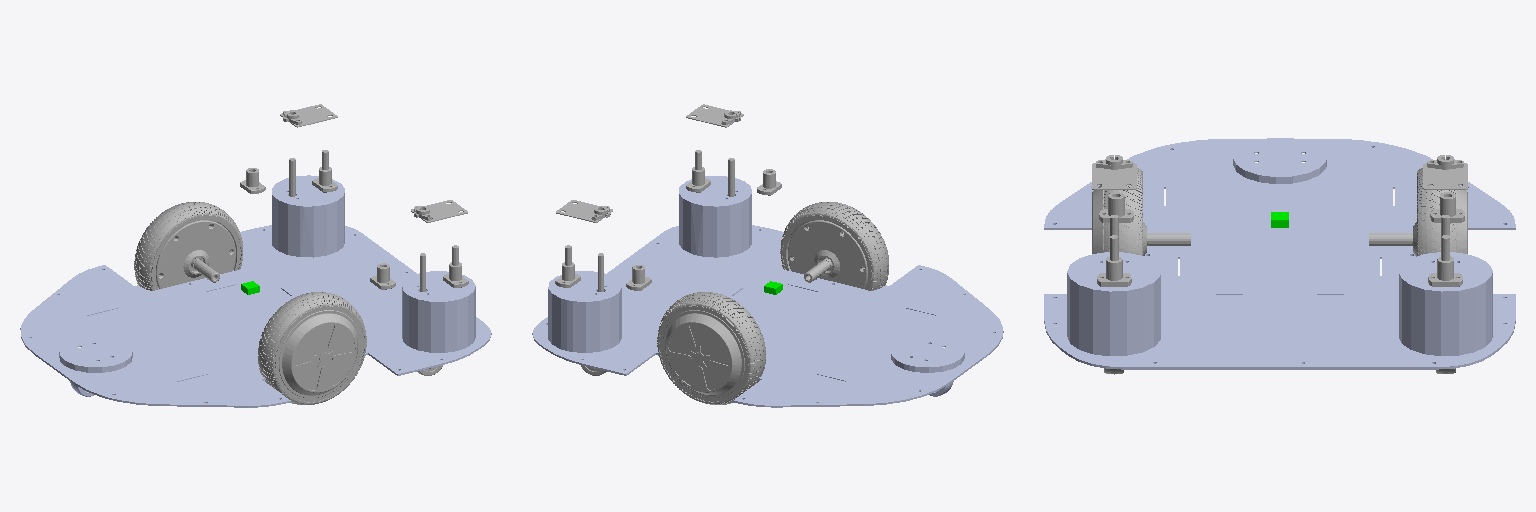
URDF robot description (robot_urdf):
<?xml version="1.0" encoding="utf-8"?>
<!-- This URDF was automatically created by SolidWorks to URDF Exporter! Originally created by Stephen Brawner (brawner@gmail.com) 
     Commit Version: 1.6.0-4-g7f85cfe  Build Version: 1.6.7995.38578
     For more information, please see http://wiki.ros.org/sw_urdf_exporter -->
<robot
  name="robot_urdf">

  <!-- ========================= -->
  <!-- Base Footprint            -->
  <!-- ========================= -->
  <link name="base_footprint"/>

  <!-- Dịch chuyển gốc SolidWorks về đúng tâm trục bánh xe tiếp xúc mặt đất và xoay 180 độ để 2 bánh phụ là đầu xe (+X) -->
  <joint name="base_joint" type="fixed">
    <parent link="base_footprint"/>
    <child link="base_link"/>
    <origin xyz="0.18805 0.213 0.03053" rpy="0 0 3.14159265"/>
  </joint>

  <!-- ========================= -->
  <!-- Base Link                 -->
  <!-- ========================= -->
  <link
    name="base_link">
    <inertial>
      <origin
        xyz="0.221410511244576 0.213001695317811 0.0353870595177748"
        rpy="0 0 0" />
      <mass
        value="1.25495204933382" />
      <inertia
        ixx="0.0204204507187595"
        ixy="1.1493563950929E-06"
        ixz="0.0013146649430653"
        iyy="0.0297599172739004"
        iyz="1.673289518977E-08"
        izz="0.0493374014049096" />
    </inertial>
    <visual>
      <origin
        xyz="0 0 0"
        rpy="0 0 0" />
      <geometry>
        <mesh
          filename="package://robot_urdf/meshes/base_link.STL" />
      </geometry>
      <material
        name="">
        <color
          rgba="0.792156862745098 0.819607843137255 0.933333333333333 1" />
      </material>
    </visual>
    <collision>
      <origin
        xyz="0 0 0"
        rpy="0 0 0" />
      <geometry>
        <mesh
          filename="package://robot_urdf/meshes/base_link.STL" />
      </geometry>
    </collision>
  </link>

  <!-- ========================= -->
  <!-- IMU Link (Center of Robot)-->
  <!-- ========================= -->
  <link name="imu_link">
    <visual>
      <geometry>
        <box size="0.02 0.02 0.01"/>
      </geometry>
      <material name="imu_green">
        <color rgba="0 1 0 1"/>
      </material>
    </visual>
    <collision>
      <geometry>
        <box size="0.02 0.02 0.01"/>
      </geometry>
    </collision>
    <inertial>
      <origin xyz="0 0 0" rpy="0 0 0"/>
      <mass value="0.02"/>
      <inertia ixx="1e-5" ixy="0.0" ixz="0.0"
               iyy="1e-5" iyz="0.0"
               izz="1e-5"/>
    </inertial>
  </link>

  <joint name="imu_joint" type="fixed">
    <parent link="base_link"/>
    <child link="imu_link"/>
    <origin xyz="0.18805 0.213 0.08" rpy="0 0 3.14159265"/>
  </joint>

  <!-- ========================= -->
  <!-- 2D LiDAR (laser_link)     -->
  <!-- ========================= -->
  <link
    name="laser_link">
    <inertial>
      <origin
        xyz="0.011792 -0.00036789 -0.035501"
        rpy="0 0 0" />
      <mass
        value="0.094104" />
      <inertia
        ixx="2.7909E-05"
        ixy="-5.2518E-08"
        ixz="-3.3534E-07"
        iyy="4.4353E-05"
        iyz="2.4873E-08"
        izz="6.9475E-05" />
    </inertial>
    <visual>
      <origin
        xyz="0 0 0"
        rpy="0 0 0" />
      <geometry>
        <mesh
          filename="package://robot_urdf/meshes/laser_Link.STL" />
      </geometry>
      <material
        name="">
        <color
          rgba="0.75294 0.75294 0.75294 1" />
      </material>
    </visual>
    <collision>
      <origin
        xyz="0 0 0"
        rpy="0 0 0" />
      <geometry>
        <mesh
          filename="package://robot_urdf/meshes/laser_Link.STL" />
      </geometry>
    </collision>
  </link>

  <joint
    name="laser_joint"
    type="fixed">
    <origin
      xyz="0.01305 0.213 0.24949"
      rpy="3.14159265 0 3.14159265" />
    <parent
      link="base_link" />
    <child
      link="laser_link" />
    <axis
      xyz="0 0 0" />
  </joint>

  <!-- ========================= -->
  <!-- Left Wheel (Active, 43cm) -->
  <!-- ========================= -->
  <link
    name="wheel_left_link">
    <inertial>
      <origin
        xyz="-5.0984E-06 -0.033015 7.7331E-06"
        rpy="0 0 0" />
      <mass
        value="0.79711" />
      <inertia
        ixx="0.0016716"
        ixy="3.0102E-08"
        ixz="-3.8937E-08"
        iyy="0.0030919"
        iyz="1.8966E-07"
        izz="0.0016716" />
    </inertial>
    <visual>
      <origin
        xyz="0 0 0"
        rpy="0 0 0" />
      <geometry>
        <mesh
          filename="package://robot_urdf/meshes/wheel_left_link.STL" />
      </geometry>
      <material
        name="">
        <color
          rgba="0.75294 0.75294 0.75294 1" />
      </material>
    </visual>
    <collision>
      <origin
        xyz="0 -0.0567 0"
        rpy="1.5707963 0 0" />
      <geometry>
        <cylinder radius="0.086" length="0.05" />
      </geometry>
    </collision>
  </link>

  <joint
    name="wheel_left_joint"
    type="continuous">
    <origin
      xyz="0.18805 -0.002 0.055472"
      rpy="0 0 0" />
    <parent
      link="base_link" />
    <child
      link="wheel_right_link" />
    <axis
      xyz="0 -1 0" />
  </joint>

  <!-- ========================= -->
  <!-- Right Wheel (Active, 43cm)-->
  <!-- ========================= -->
  <link
    name="wheel_right_link">
    <inertial>
      <origin
        xyz="5.0984E-06 0.033015 7.7331E-06"
        rpy="0 0 0" />
      <mass
        value="0.79711" />
      <inertia
        ixx="0.0016716"
        ixy="3.0102E-08"
        ixz="3.8937E-08"
        iyy="0.0030919"
        iyz="-1.8966E-07"
        izz="0.0016716" />
    </inertial>
    <visual>
      <origin
        xyz="0 0 0"
        rpy="0 0 0" />
      <geometry>
        <mesh
          filename="package://robot_urdf/meshes/wheel_right_link.STL" />
      </geometry>
      <material
        name="">
        <color
          rgba="0.75294 0.75294 0.75294 1" />
      </material>
    </visual>
    <collision>
      <origin
        xyz="0 0.0567 0"
        rpy="1.5707963 0 0" />
      <geometry>
        <cylinder radius="0.086" length="0.05" />
      </geometry>
    </collision>
  </link>

  <joint
    name="wheel_right_joint"
    type="continuous">
    <origin
      xyz="0.18805 0.428 0.055472"
      rpy="0 0 0" />
    <parent
      link="base_link" />
    <child
      link="wheel_left_link" />
    <axis
      xyz="0 -1 0" />
  </joint>

  <!-- ========================= -->
  <!-- Front Caster Wheel        -->
  <!-- ========================= -->
  <link
    name="caster_front_link">
    <inertial>
      <origin
        xyz="-0.0051384 -0.019049 0.0083478"
        rpy="0 0 0" />
      <mass
        value="0.06026" />
      <inertia
        ixx="2.3601E-05"
        ixy="1.4688E-08"
        ixz="7.1694E-06"
        iyy="3.2253E-05"
        iyz="-2.4004E-08"
        izz="1.8571E-05" />
    </inertial>
    <visual>
      <origin
        xyz="0 0 0"
        rpy="0 0 0" />
      <geometry>
        <mesh
          filename="package://robot_urdf/meshes/caster_front_Link.STL" />
      </geometry>
      <material
        name="">
        <color
          rgba="0.79216 0.81961 0.93333 1" />
      </material>
    </visual>
    <collision>
      <origin
        xyz="-0.0137 -0.019 -0.012"
        rpy="0 0 0" />
      <geometry>
        <sphere radius="0.0125" />
      </geometry>
    </collision>
  </link>

  <joint
    name="caster_front_joint"
    type="fixed">
    <origin
      xyz="0.46183 0.232 -0.0023223"
      rpy="0 0 0" />
    <parent
      link="base_link" />
    <child
      link="caster_front_link" />
  </joint>

  <!-- ========================= -->
  <!-- Rear Left Caster Wheel    -->
  <!-- ========================= -->
  <link
    name="caster_left_link">
    <inertial>
      <origin
        xyz="-0.0080178 -0.019209 0.06248"
        rpy="0 0 0" />
      <mass
        value="0.12754" />
      <inertia
        ixx="6.4519E-05"
        ixy="1.3465E-08"
        ixz="7.1762E-06"
        iyy="7.2379E-05"
        iyz="-2.3834E-08"
        izz="3.9114E-05" />
    </inertial>
    <visual>
      <origin
        xyz="0 0 0"
        rpy="0 0 0" />
      <geometry>
        <mesh
          filename="package://robot_urdf/meshes/caster_left_link.STL" />
      </geometry>
      <material
        name="">
        <color
          rgba="0.75294 0.75294 0.75294 1" />
      </material>
    </visual>
    <collision>
      <origin
        xyz="0.0117 -0.019 -0.012"
        rpy="0 0 0" />
      <geometry>
        <sphere radius="0.0125" />
      </geometry>
    </collision>
  </link>

  <joint
    name="caster_left_joint"
    type="fixed">
    <origin
      xyz="0 0.42198 -3.3809E-05"
      rpy="0 0 0" />
    <parent
      link="base_link" />
    <child
      link="caster_left_link" />
  </joint>

  <!-- ========================= -->
  <!-- Rear Right Caster Wheel   -->
  <!-- ========================= -->
  <link
    name="caster_right_link">
    <inertial>
      <origin
        xyz="-0.0080095 0.022791 0.062472"
        rpy="0 0 0" />
      <mass
        value="0.12754" />
      <inertia
        ixx="6.4519E-05"
        ixy="1.3465E-08"
        ixz="7.1762E-06"
        iyy="7.2379E-05"
        iyz="-2.3834E-08"
        izz="3.9114E-05" />
    </inertial>
    <visual>
      <origin
        xyz="0 0 0"
        rpy="0 0 0" />
      <geometry>
        <mesh
          filename="package://robot_urdf/meshes/caster_right_Link.STL" />
      </geometry>
      <material
        name="">
        <color
          rgba="0.75294 0.75294 0.75294 1" />
      </material>
    </visual>
    <collision>
      <origin
        xyz="0.0117 0.023 -0.012"
        rpy="0 0 0" />
      <geometry>
        <sphere radius="0.0125" />
      </geometry>
    </collision>
  </link>

  <joint
    name="caster_right_joint"
    type="fixed">
    <origin
      xyz="0 0 0"
      rpy="0 0 0" />
    <parent
      link="base_link" />
    <child
      link="caster_right_link" />
  </joint>

  <!-- ========================= -->
  <!-- Gazebo Physics & Sensors  -->
  <!-- ========================= -->
  <!-- Gazebo Sim (gz-sim) Plugins -->
  <!-- ========================= -->
  <gazebo>
    <plugin filename="gz-sim-diff-drive-system" name="gz::sim::systems::DiffDrive">
      <left_joint>wheel_left_joint</left_joint>
      <right_joint>wheel_right_joint</right_joint>
      <wheel_separation>0.43</wheel_separation>
      <wheel_radius>0.086</wheel_radius>
      <max_linear_acceleration>1.0</max_linear_acceleration>
      <min_linear_acceleration>-1.0</min_linear_acceleration>
      <max_angular_acceleration>2.0</max_angular_acceleration>
      <min_angular_acceleration>-2.0</min_angular_acceleration>
      <max_linear_velocity>1.0</max_linear_velocity>
      <min_linear_velocity>-1.0</min_linear_velocity>
      <max_angular_velocity>2.0</max_angular_velocity>
      <min_angular_velocity>-2.0</min_angular_velocity>
      <topic>cmd_vel</topic>
      <odom_topic>odom</odom_topic>
      <tf_topic>tf</tf_topic>
      <frame_id>odom</frame_id>
      <child_frame_id>base_footprint</child_frame_id>
      <odom_publisher_frequency>50</odom_publisher_frequency>
    </plugin>

    <plugin filename="gz-sim-joint-state-publisher-system" name="gz::sim::systems::JointStatePublisher">
      <topic>joint_states</topic>
      <joint_name>wheel_left_joint</joint_name>
      <joint_name>wheel_right_joint</joint_name>
    </plugin>
  </gazebo>

  <!-- IMU Sensor -->
  <gazebo reference="imu_link">
    <sensor name="imu_sensor" type="imu">
      <always_on>true</always_on>
      <update_rate>100.0</update_rate>
      <visualize>false</visualize>
      <topic>imu/data</topic>
      <gz_frame_id>imu_link</gz_frame_id>
      <imu>
        <angular_velocity>
          <x><noise type="gaussian"><mean>0.0</mean><stddev>0.0002</stddev></noise></x>
          <y><noise type="gaussian"><mean>0.0</mean><stddev>0.0002</stddev></noise></y>
          <z><noise type="gaussian"><mean>0.0</mean><stddev>0.0002</stddev></noise></z>
        </angular_velocity>
        <linear_acceleration>
          <x><noise type="gaussian"><mean>0.0</mean><stddev>0.017</stddev></noise></x>
          <y><noise type="gaussian"><mean>0.0</mean><stddev>0.017</stddev></noise></y>
          <z><noise type="gaussian"><mean>0.0</mean><stddev>0.017</stddev></noise></z>
        </linear_acceleration>
      </imu>
    </sensor>
  </gazebo>

  <!-- 2D LiDAR Sensor -->
  <gazebo reference="laser_link">
    <sensor name="lidar_sensor" type="gpu_lidar">
      <always_on>true</always_on>
      <visualize>true</visualize>
      <update_rate>12.0</update_rate>
      <topic>scan</topic>
      <gz_frame_id>laser_link</gz_frame_id>
      <lidar>
        <scan>
          <horizontal>
            <samples>720</samples>
            <resolution>1</resolution>
            <min_angle>-3.14159265</min_angle>
            <max_angle>3.14159265</max_angle>
          </horizontal>
        </scan>
        <range>
          <min>0.12</min>
          <max>12.0</max>
          <resolution>0.01</resolution>
        </range>
        <noise>
          <type>gaussian</type>
          <mean>0.0</mean>
          <stddev>0.01</stddev>
        </noise>
      </lidar>
    </sensor>
  </gazebo>

  <!-- Friction settings for active drive wheels -->
  <gazebo reference="wheel_left_link">
    <mu1>1.0</mu1>
    <mu2>1.0</mu2>
    <kp>1000000.0</kp>
    <kd>1.0</kd>
  </gazebo>

  <gazebo reference="wheel_right_link">
    <mu1>1.0</mu1>
    <mu2>1.0</mu2>
    <kp>1000000.0</kp>
    <kd>1.0</kd>
  </gazebo>

  <!-- Friction settings for passive caster wheels (friction = 0) -->
  <gazebo reference="caster_front_link">
    <mu1>0.0</mu1>
    <mu2>0.0</mu2>
    <kp>1000000.0</kp>
    <kd>1.0</kd>
  </gazebo>

  <gazebo reference="caster_left_link">
    <mu1>0.0</mu1>
    <mu2>0.0</mu2>
    <kp>1000000.0</kp>
    <kd>1.0</kd>
  </gazebo>

  <gazebo reference="caster_right_link">
    <mu1>0.0</mu1>
    <mu2>0.0</mu2>
    <kp>1000000.0</kp>
    <kd>1.0</kd>
  </gazebo>

  <!-- ========================= -->
  <!-- ros2_control Hardware Tag -->
  <!-- ========================= -->
  <ros2_control name="hoverboard_system" type="system">
    <hardware>
      <plugin>hoverboard_driver/hoverboard_driver</plugin>
      <param name="wheel_radius">0.086</param>
      <param name="max_velocity">1.0</param>
      <param name="device">/dev/hoverboard</param>
    </hardware>
    <joint name="wheel_left_joint">
      <command_interface name="velocity"/>
      <state_interface name="position"/>
      <state_interface name="velocity"/>
    </joint>
    <joint name="wheel_right_joint">
      <command_interface name="velocity"/>
      <state_interface name="position"/>
      <state_interface name="velocity"/>
    </joint>
  </ros2_control>

</robot>

--- Render facts (derived) ---
The picture shows the robot from 3 angles, left to right: view 1: azimuth 30°, elevation 25°; view 2: azimuth 150°, elevation 25°; view 3: azimuth 270°, elevation 25°; orthographic projection.
Robot: robot_urdf — 9 links, 8 joints (2 continuous, 6 fixed); root link base_footprint; default pose: every joint at zero.
Visible links, largest first — view 1: base_link, wheel_left_link, wheel_right_link, caster_left_link, caster_right_link; view 2: base_link, wheel_right_link, wheel_left_link, caster_right_link, caster_left_link; view 3: base_link, caster_left_link, caster_right_link, wheel_right_link, wheel_left_link.
Boxes of the visible links, x1,y1,x2,y2 form: base_link: (20,175,491,407); wheel_left_link: (258,292,366,404); wheel_right_link: (134,202,242,290); caster_left_link: (370,200,468,375); caster_right_link: (240,104,337,196); base_link: (532,176,1003,407); wheel_right_link: (657,292,765,404); wheel_left_link: (780,202,888,290); caster_right_link: (555,200,651,375); caster_left_link: (686,104,781,196); base_link: (1044,138,1515,369); caster_left_link: (1092,155,1136,374); caster_right_link: (1423,155,1467,373); wheel_right_link: (1369,168,1467,256); wheel_left_link: (1092,168,1190,255).
Size in the robot's own frame: 0.62 by 0.54 by 0.273 metres.
Meshes: 7 distinct files referenced, 6 mesh visuals loaded (6 binary STL); not drawn: 1 (reference not matched to a file when rendering).
